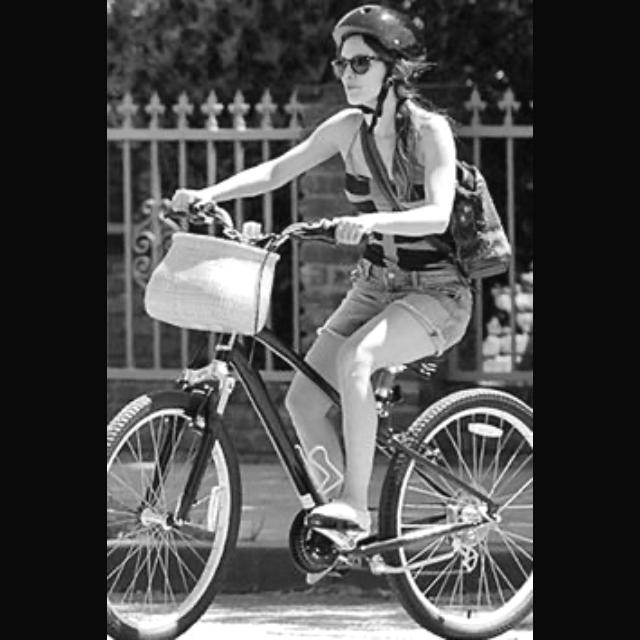With Helmet: (333, 2, 423, 112)
